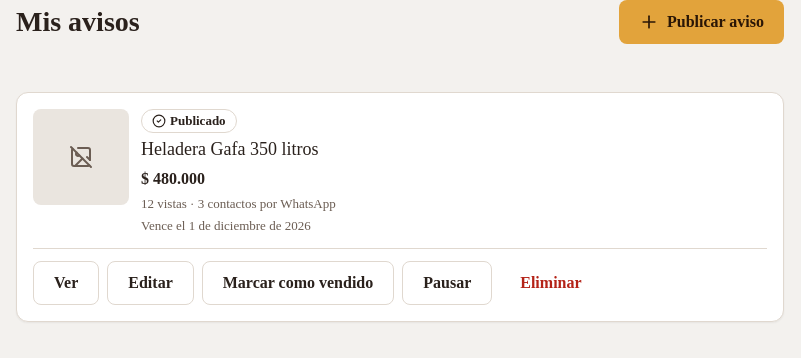
Test case: MisAvisosPage › marca como vendido con PUT y actualiza el estado
Click the button "Marcar como vendido" at [298, 283], box [202,261,394,305]
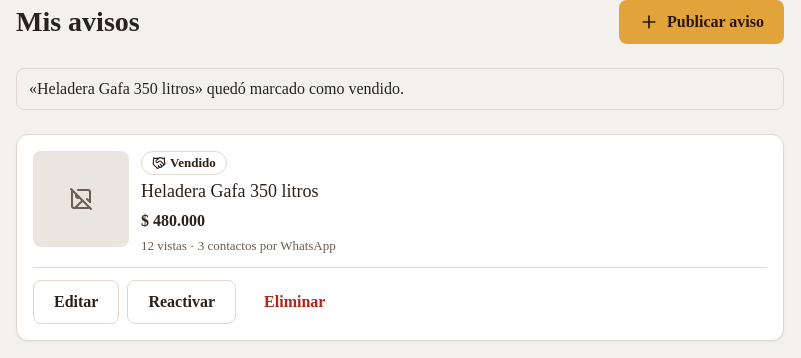
Expected: the text "Vendido" is shown, [141,151,227,175]
Expected: the button "Reactivar" is enabled, [128,280,236,324]
